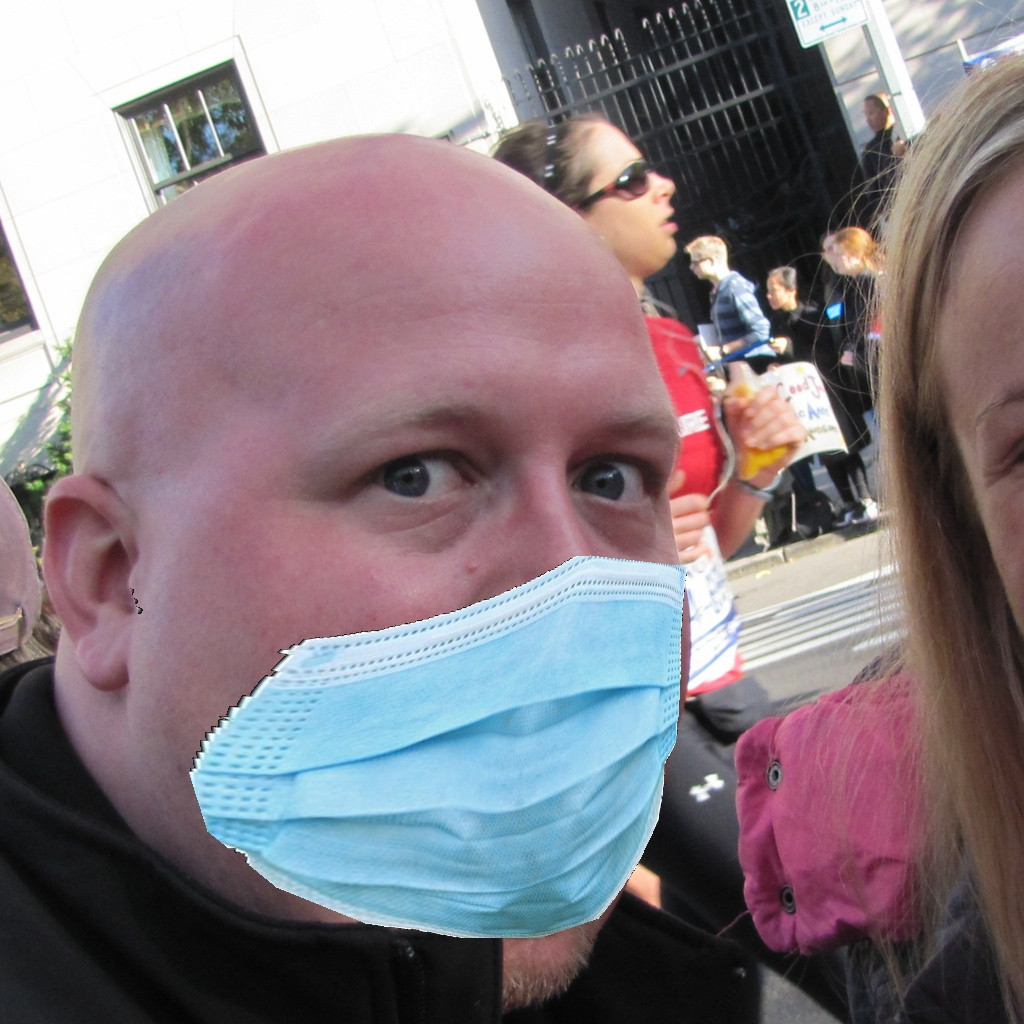Mask: (190, 384, 693, 940)
